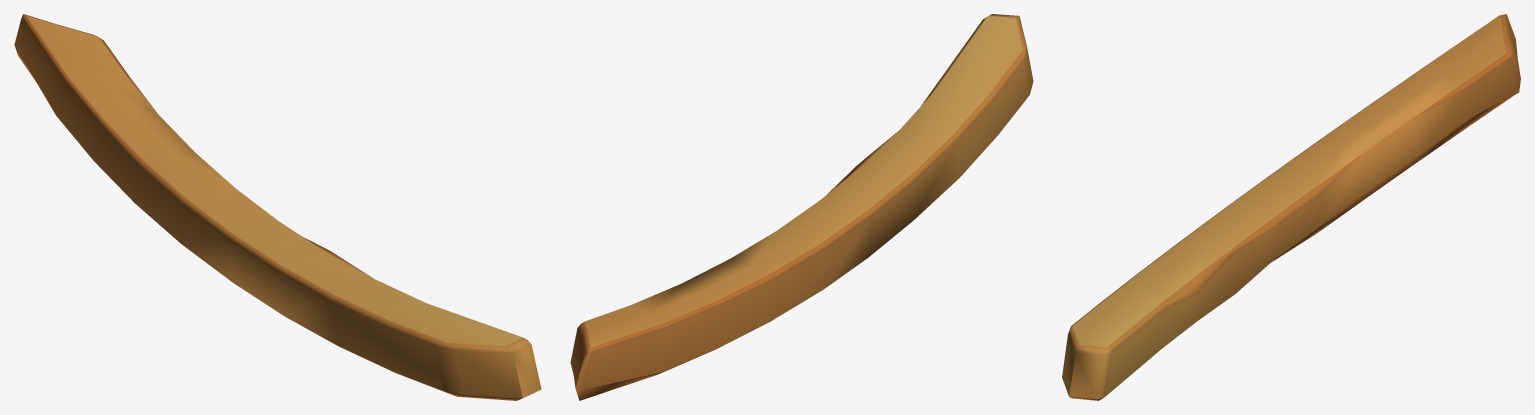
Rendered from consumables-junkfood-frenchfry_v5.glb.
3 renders of one model, left to right at view 1: azimuth 30°, elevation 25°; view 2: azimuth 150°, elevation 25°; view 3: azimuth 330°, elevation 25°, orthographic. The views are drawn at different scales.
Parts seen in each view (by area): view 1: FrenchFry_v5; view 2: FrenchFry_v5; view 3: FrenchFry_v5.
Part boxes in pixels (bbox=[...]): FrenchFry_v5: bbox=[14, 14, 541, 400]; FrenchFry_v5: bbox=[570, 14, 1033, 400]; FrenchFry_v5: bbox=[1062, 14, 1520, 400].
Size of the model in its own units: 0.0151 by 0.0119 by 0.1337.
